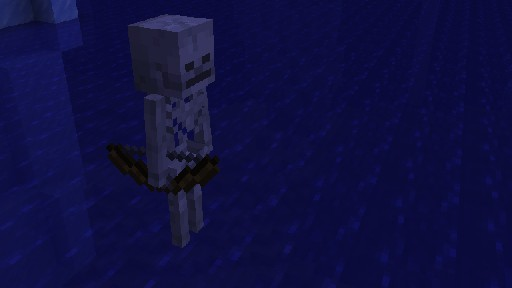skeleton: (105, 13, 220, 247)
